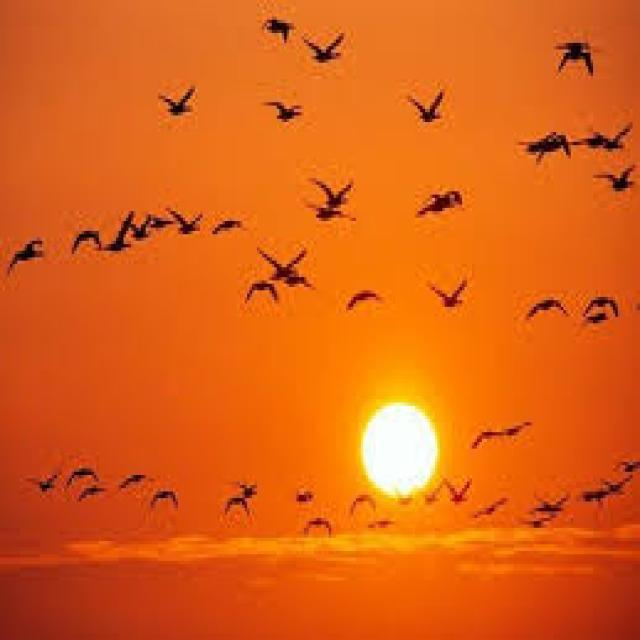bird: (451, 418, 550, 460), (515, 280, 575, 344), (256, 242, 330, 288), (572, 114, 640, 163), (0, 219, 52, 279), (153, 66, 200, 129), (541, 38, 616, 77), (341, 282, 393, 335), (422, 274, 474, 326), (590, 153, 636, 210), (68, 201, 108, 264), (402, 79, 448, 132), (414, 180, 472, 222), (248, 8, 306, 48), (514, 125, 576, 162), (102, 208, 138, 268), (167, 200, 209, 246), (308, 173, 360, 210), (28, 458, 66, 508), (304, 29, 348, 72), (238, 275, 286, 312), (263, 96, 308, 135), (114, 452, 154, 492), (210, 212, 257, 242), (312, 204, 350, 241), (467, 494, 512, 524), (600, 464, 632, 504), (148, 482, 183, 518), (218, 498, 260, 528), (584, 284, 622, 316), (531, 483, 571, 513), (76, 476, 106, 514), (390, 480, 416, 523), (232, 469, 262, 506), (582, 316, 619, 346), (448, 472, 474, 512), (64, 460, 98, 490), (300, 510, 328, 542), (366, 513, 402, 536), (420, 480, 438, 526), (134, 212, 154, 252), (344, 488, 376, 512), (292, 483, 322, 503)
